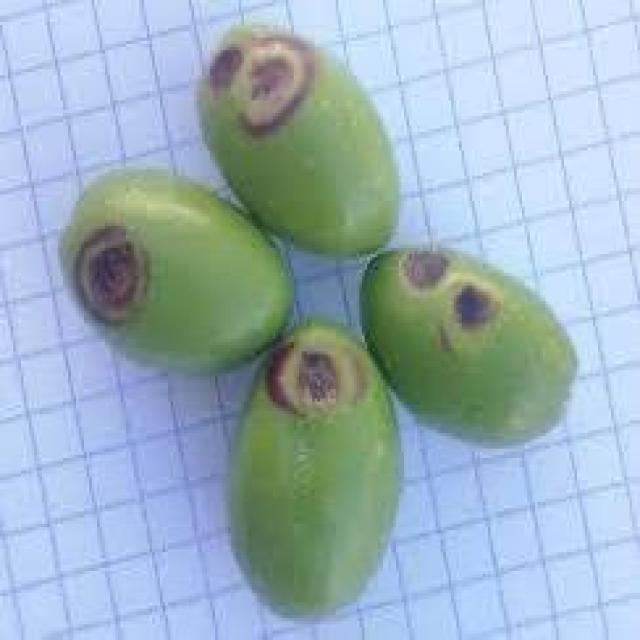Anthracnose: (228, 317, 398, 612), (60, 170, 291, 370), (197, 25, 396, 251), (364, 248, 562, 442)
